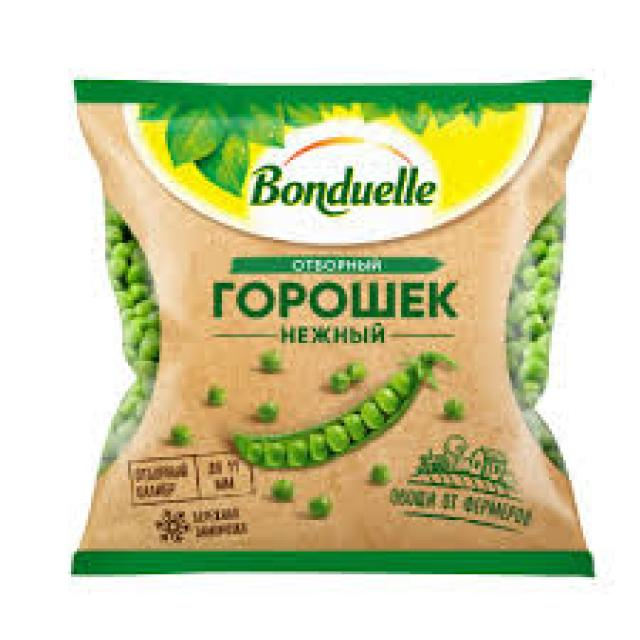peas: (239, 367, 453, 459), (89, 224, 174, 451), (510, 200, 584, 453), (189, 340, 258, 417), (156, 402, 205, 453), (260, 455, 294, 520), (435, 378, 478, 429), (359, 454, 416, 491), (323, 351, 367, 396), (241, 338, 283, 384), (301, 486, 333, 529), (252, 402, 285, 425)
